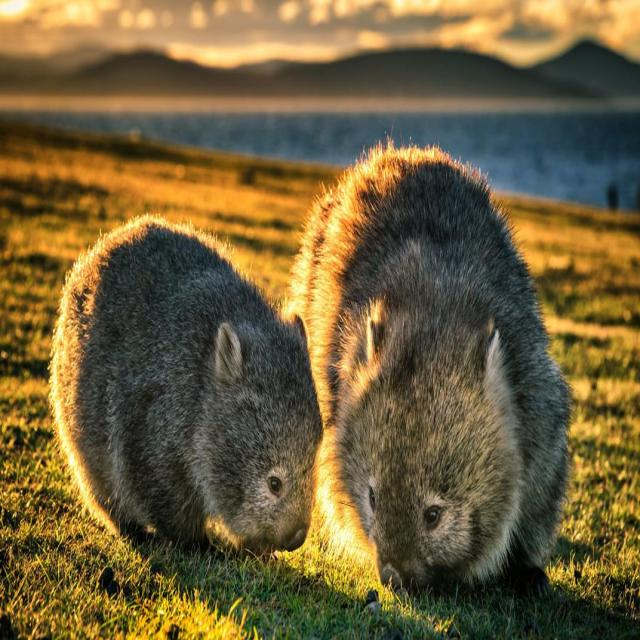Wombat: (293, 140, 578, 595), (41, 214, 323, 563)
